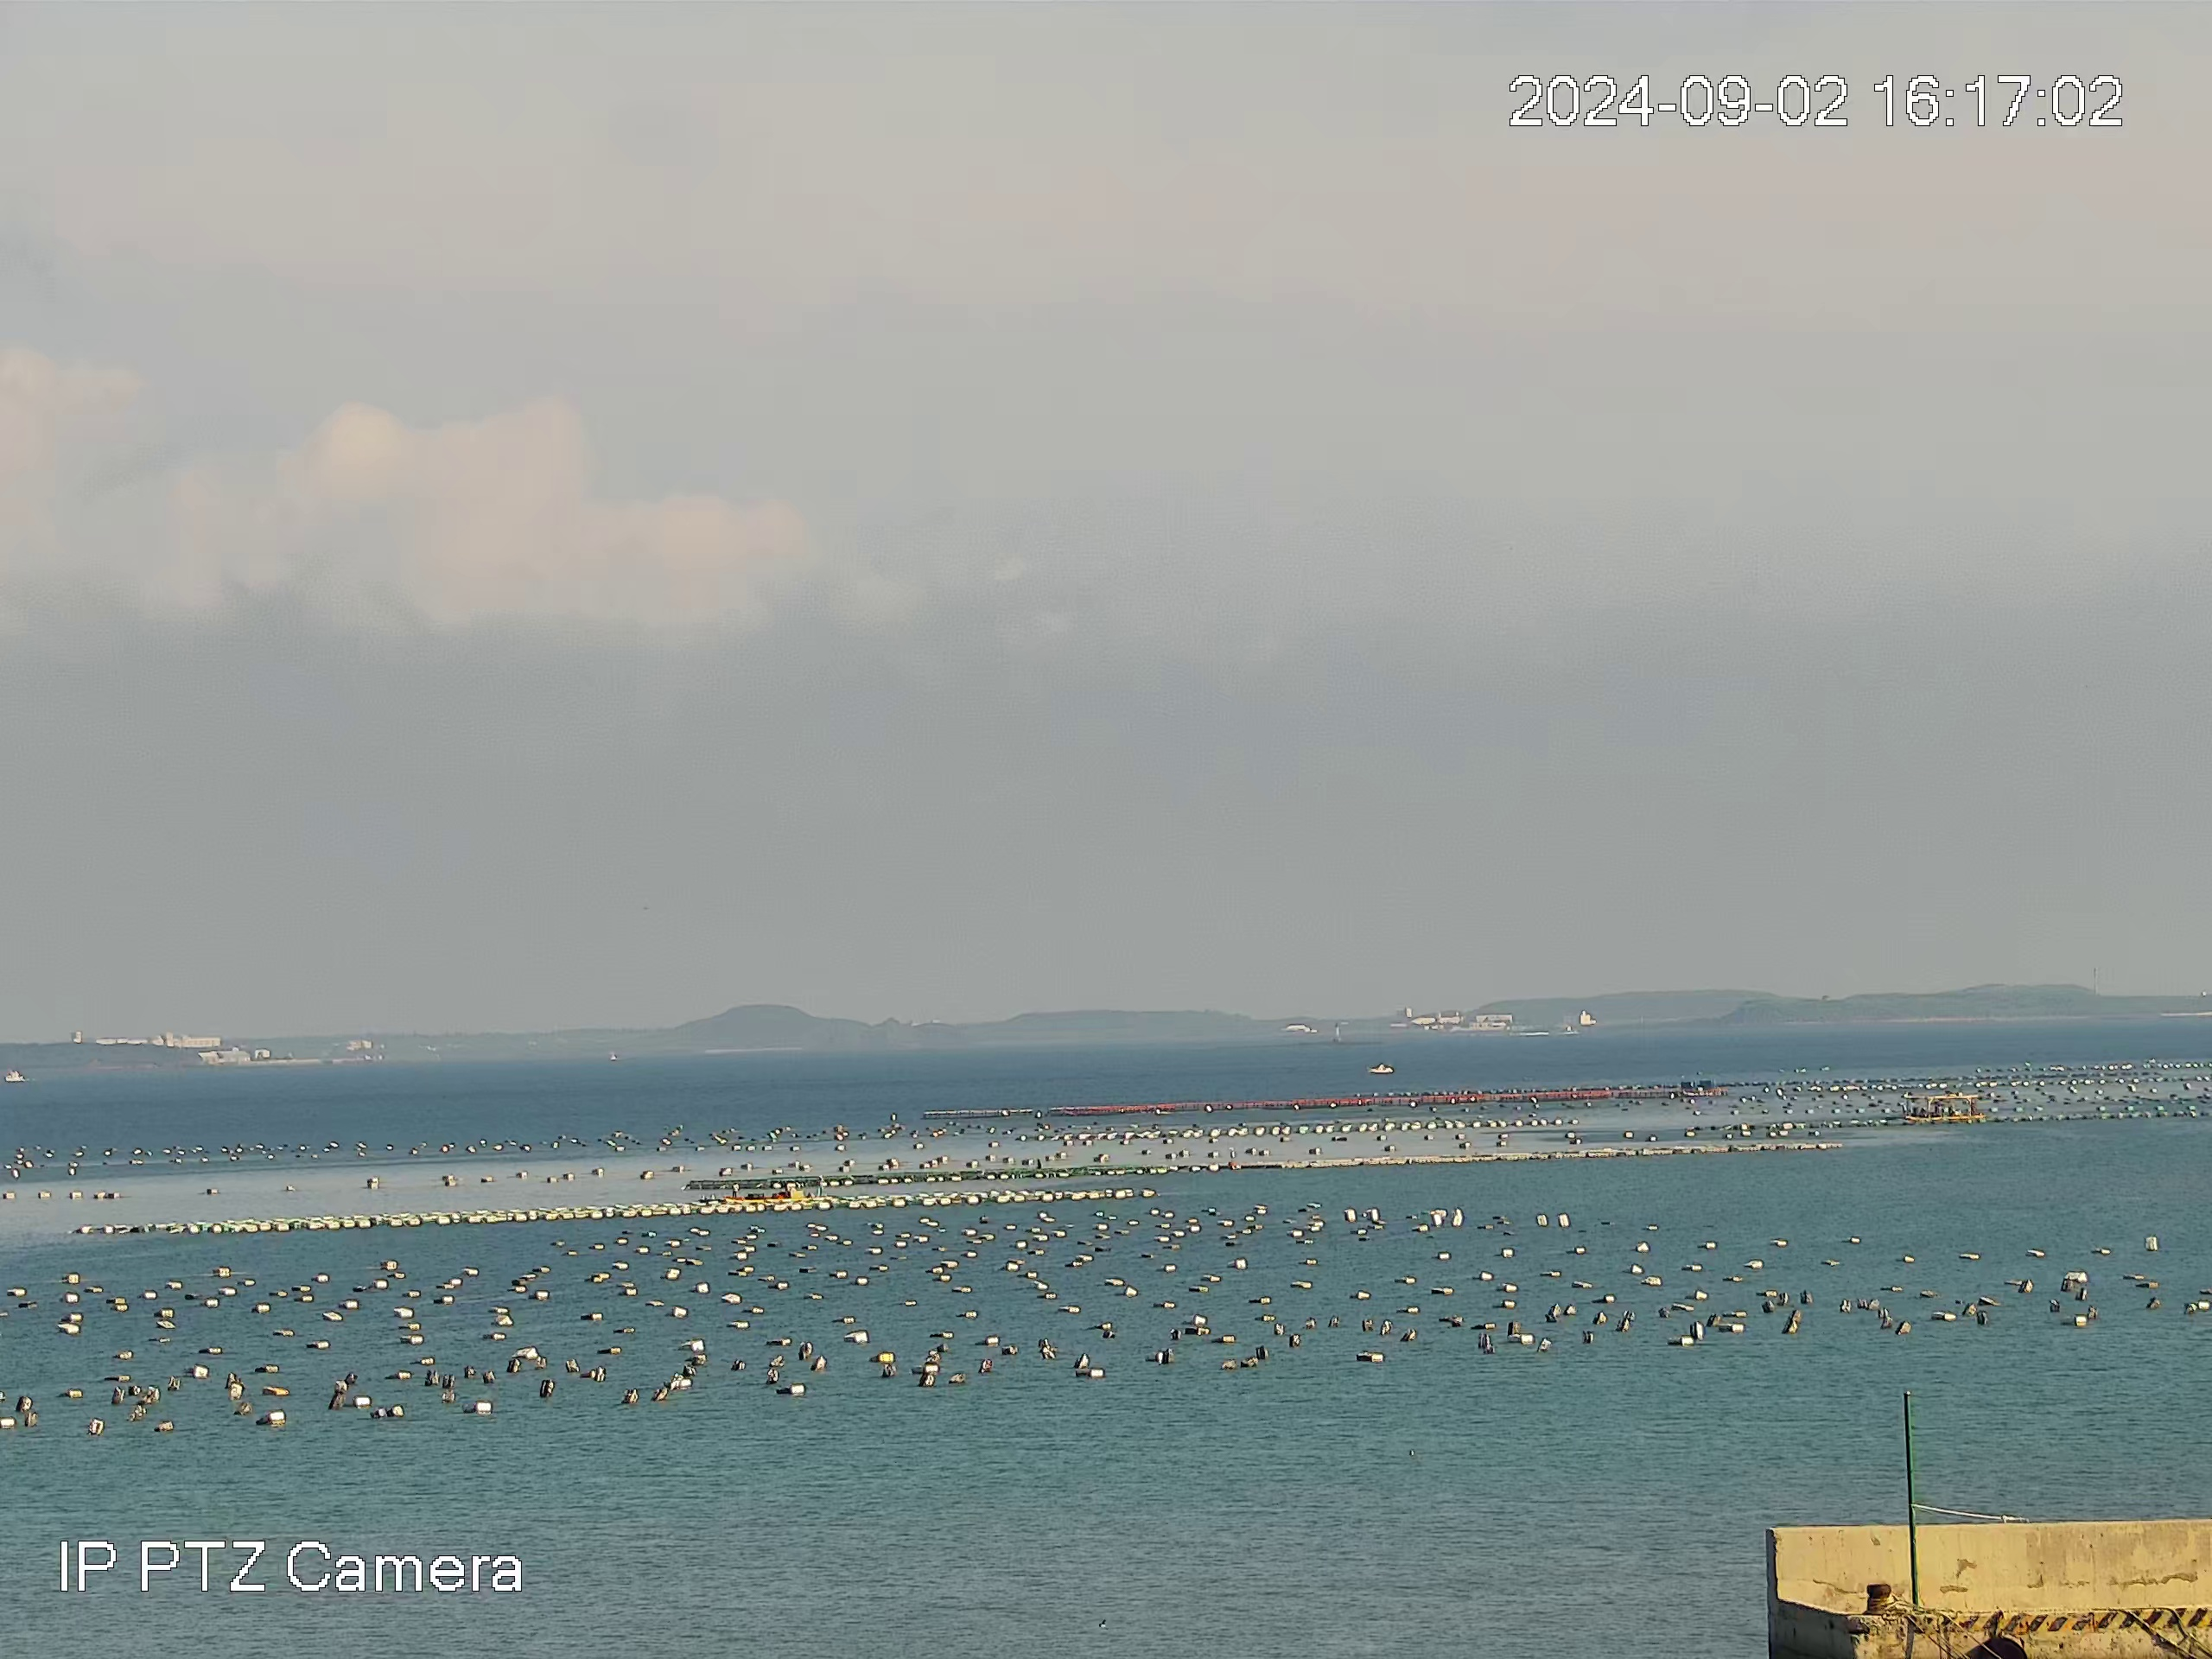boat: (1900, 1091, 1987, 1126), (721, 1180, 812, 1204), (1366, 1061, 1393, 1075)
